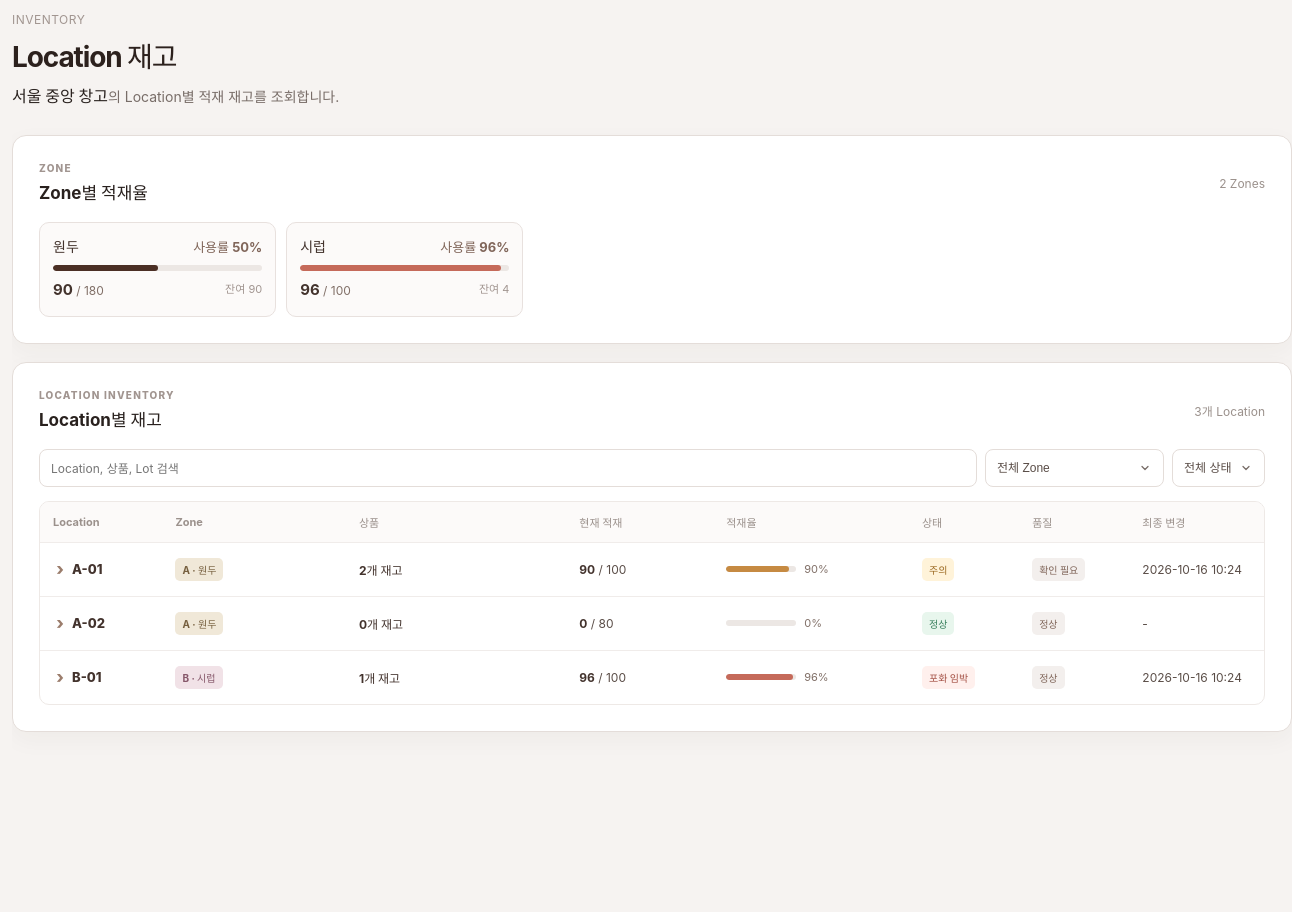
InventoryPage › Location을 펼치면 상품명·Lot·수량·품질을 보여준다
This screenshot has width=1292, height=912.
Click the button named "A-01 상품 상세 펼치기": {"x": 78, "y": 569} x1=53 y1=560 x2=102 y2=578
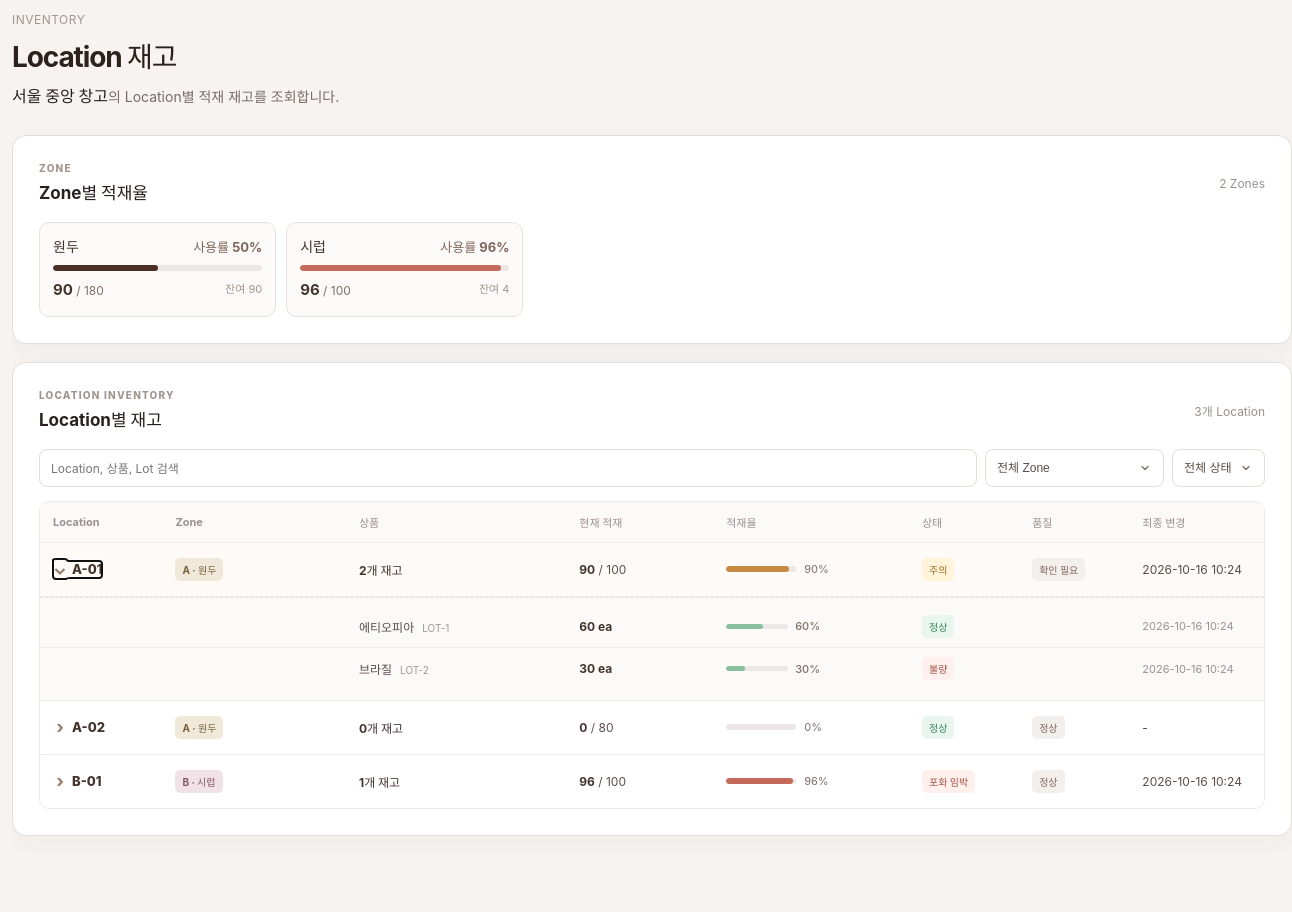
Result: the text "에티오피아" is shown at x1=359 y1=620 x2=414 y2=634
Result: the text "LOT-1" is shown at x1=422 y1=622 x2=449 y2=634
Result: the text "60 ea" is shown at x1=579 y1=618 x2=612 y2=634
